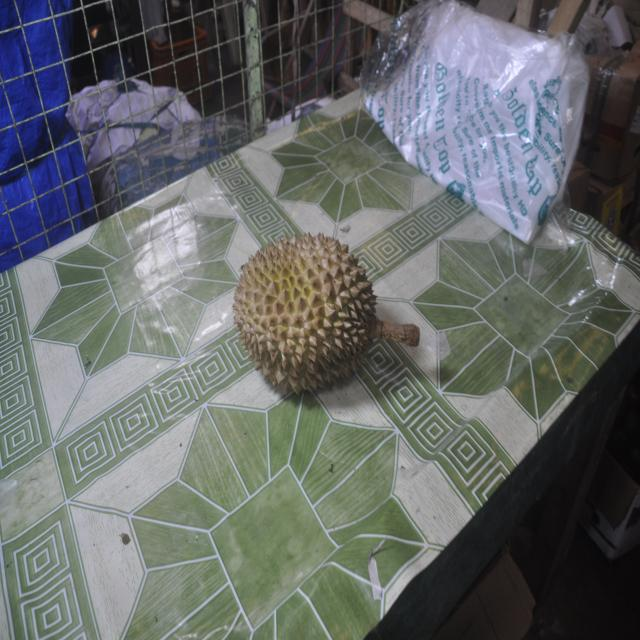mature: (232, 233, 376, 394)
